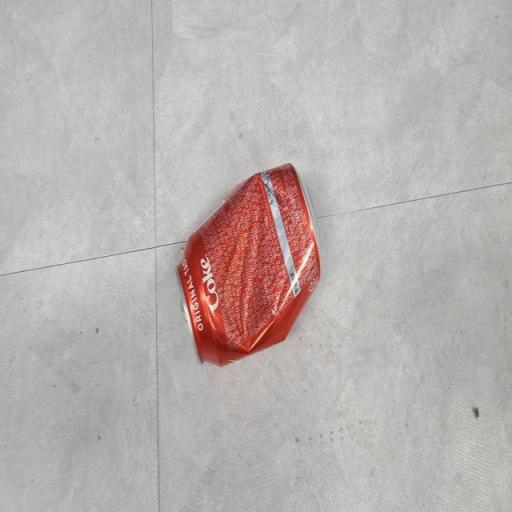metal: (164, 154, 337, 381)
